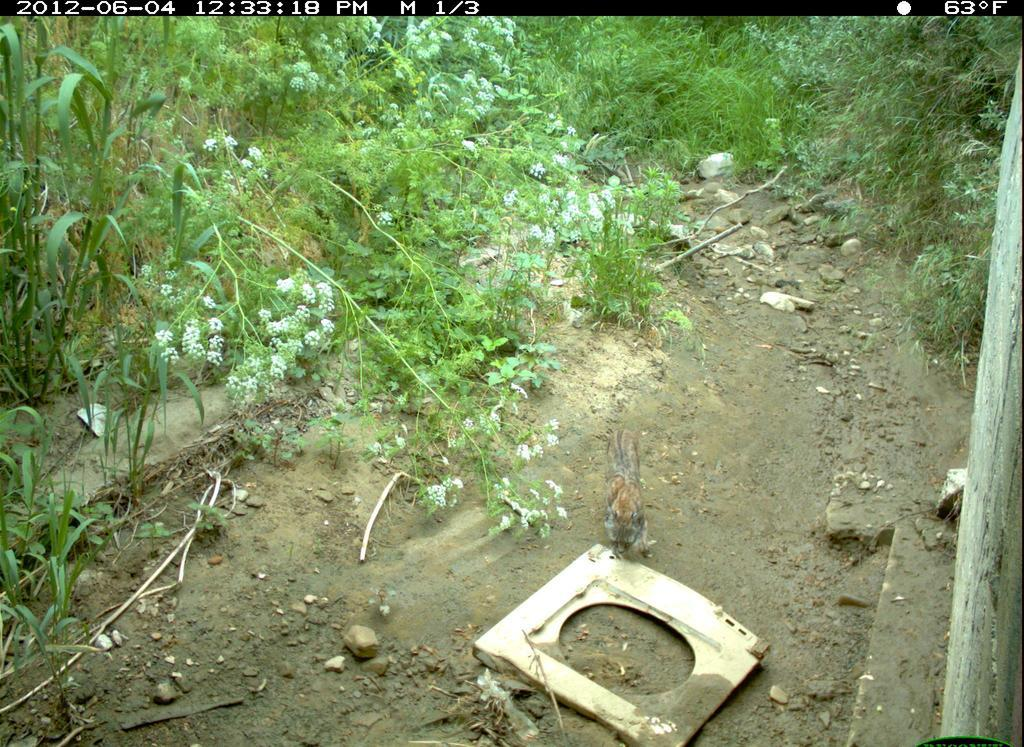bobcat: (588, 419, 696, 582)
